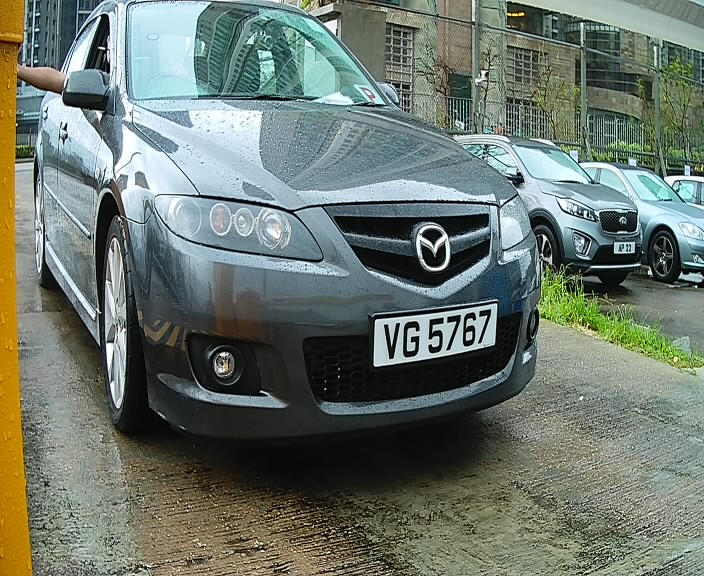Car: (4, 2, 551, 464)
License Plate: (370, 296, 502, 376)
